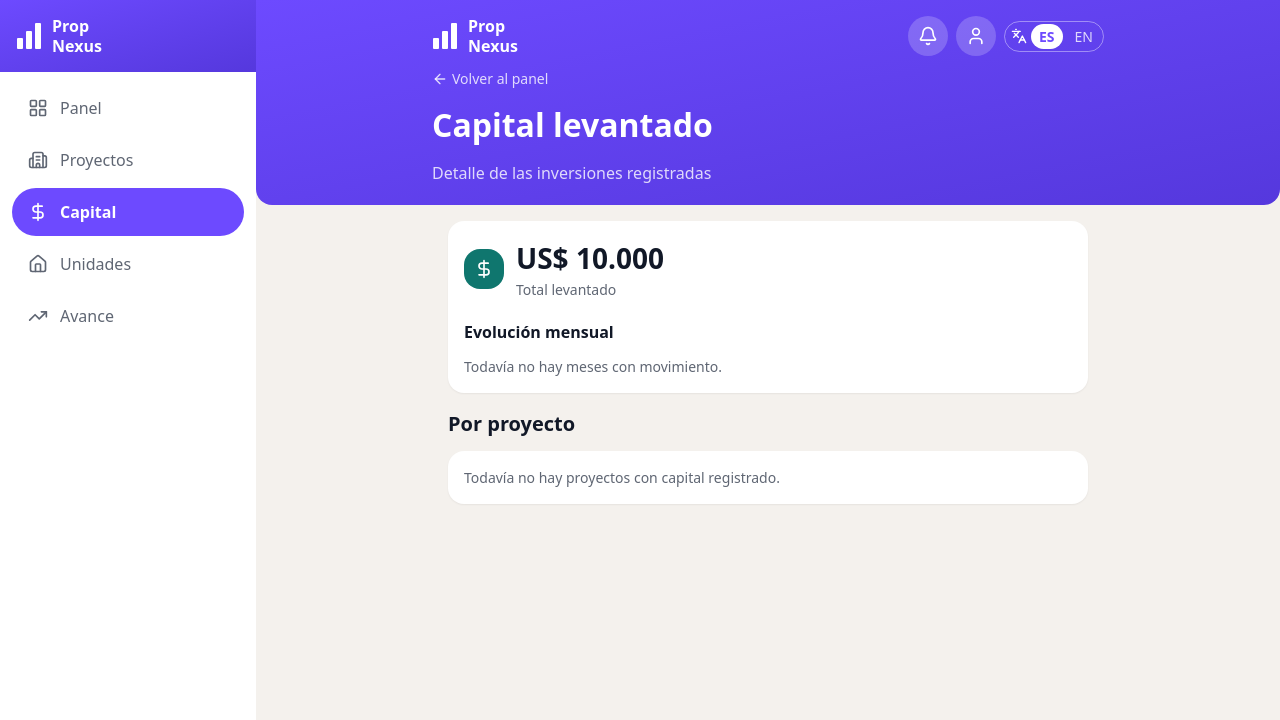
Test case: /developer/capital › la flecha de volver lleva al panel del developer
The image size is (1280, 720).
Click the button "Volver al panel" at (490, 78), box [432,68,548,89]
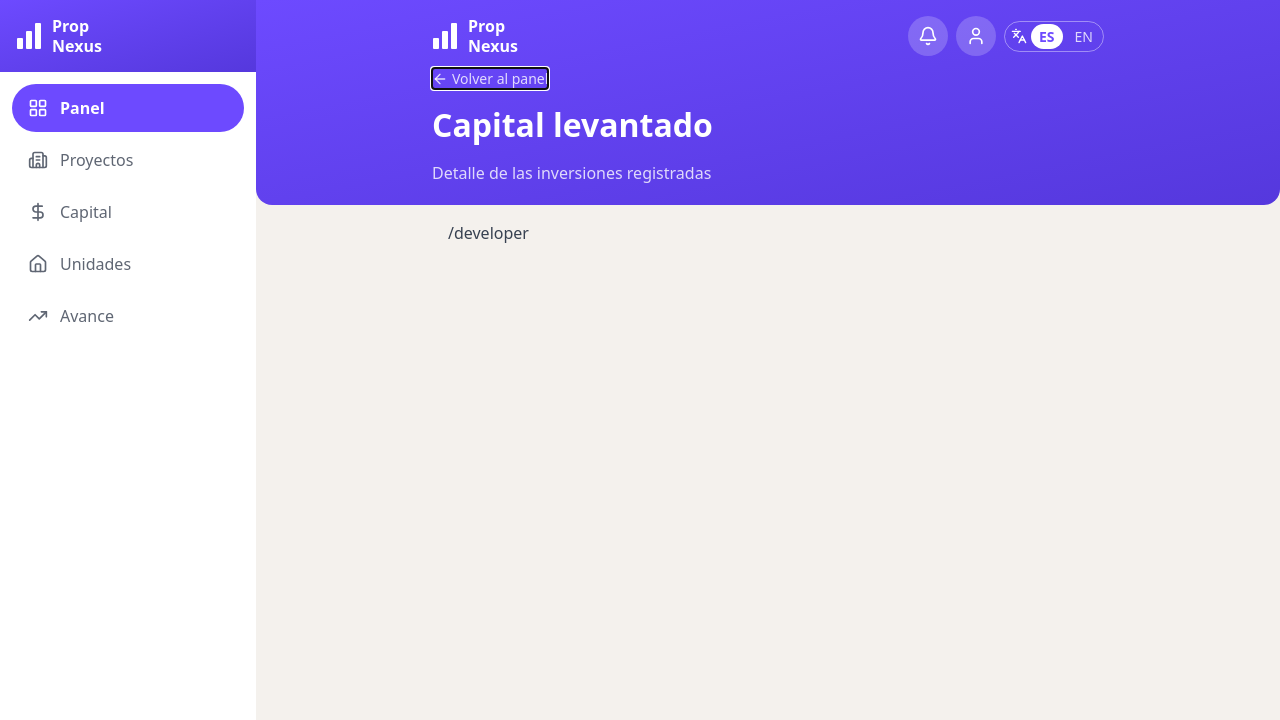
Check: the text "/developer" is shown, box [448,222,529,244]
